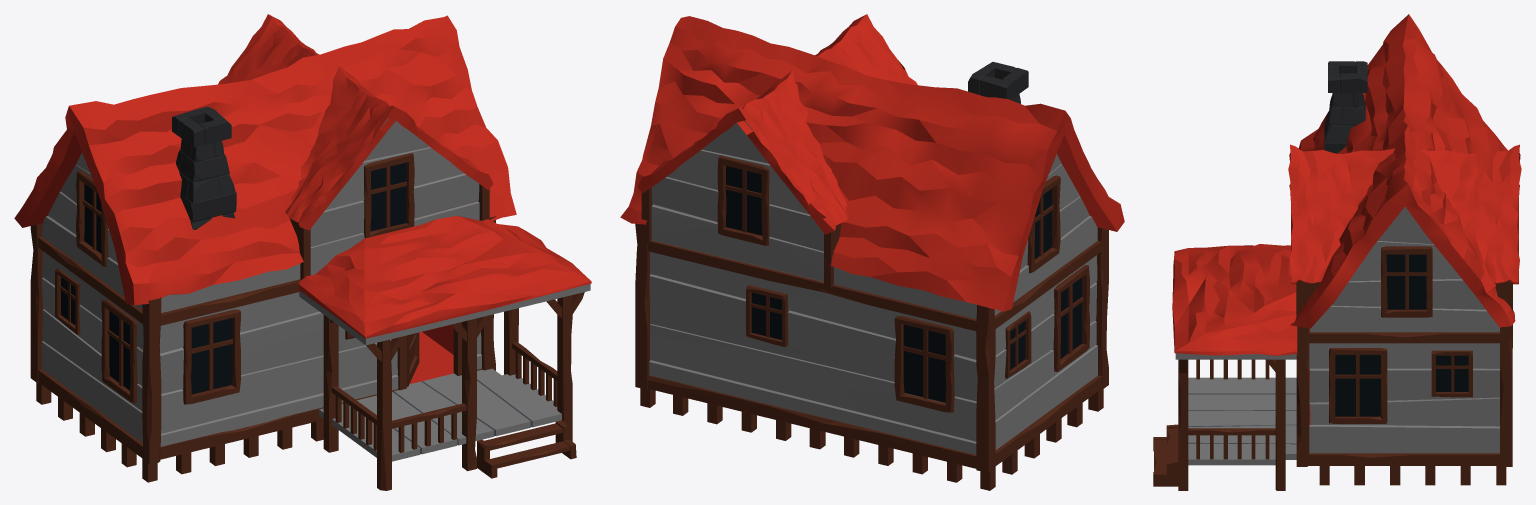
File: House_1.001.fbx
3 views of the same model, side by side, from view 1: azimuth 30°, elevation 25°; view 2: azimuth 150°, elevation 25°; view 3: azimuth 270°, elevation 25° (orthographic). The views are drawn at different scales.
Parts seen in each view (by area): view 1: House_1.001; view 2: House_1.001; view 3: House_1.001.
Part boxes in pixels (left/top/right/bottom): House_1.001: left=14, top=14, right=591, bottom=490; House_1.001: left=620, top=14, right=1124, bottom=490; House_1.001: left=1153, top=14, right=1521, bottom=490.
Size of the model in its own units: 260 by 211 by 227.
